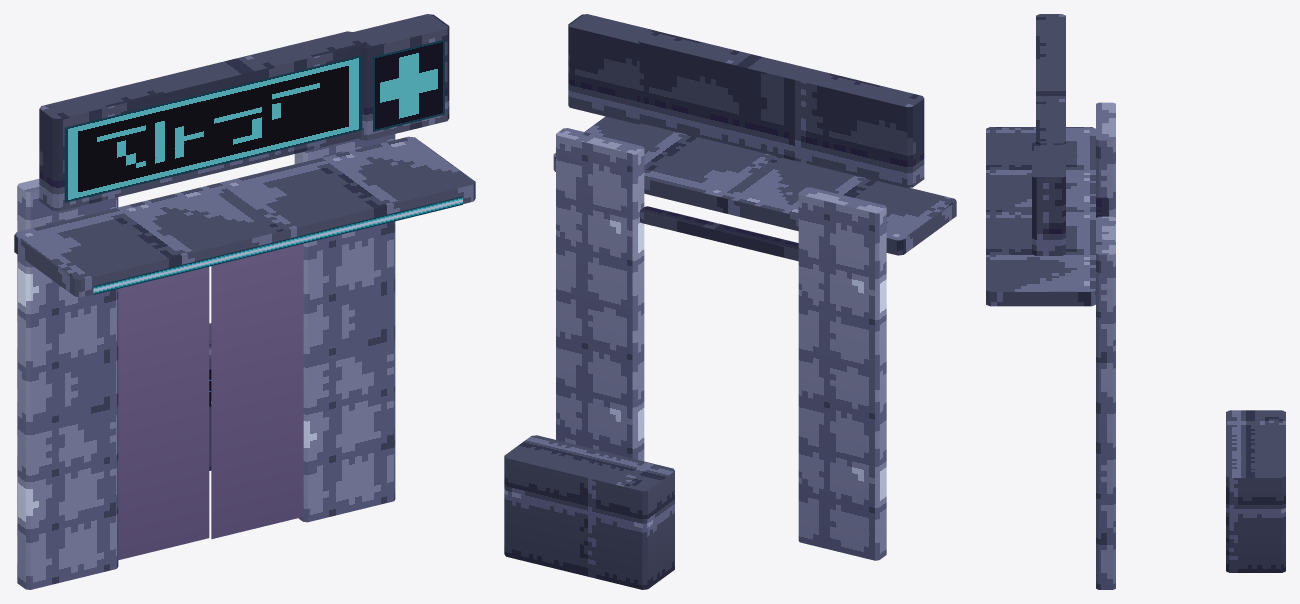
Rendered from cysign.clinic.glb.
The picture shows the model from 3 angles, left to right: view 1: azimuth 30°, elevation 25°; view 2: azimuth 150°, elevation 25°; view 3: azimuth 270°, elevation 25°; orthographic projection. The views are drawn at different scales.
Parts seen in each view (by area): view 1: kit_front, kit_card_cards; view 2: kit_front; view 3: kit_front.
Boxes of the visible parts, box(x1,y1,x2,y2) form: kit_front: box(14, 14, 475, 589); kit_card_cards: box(64, 39, 462, 560); kit_front: box(504, 14, 956, 589); kit_front: box(986, 14, 1285, 589).
Bounding box in the file's own units: 3.91 × 4.64 × 3.01.
Materials: 8 (7 with a texture image).
